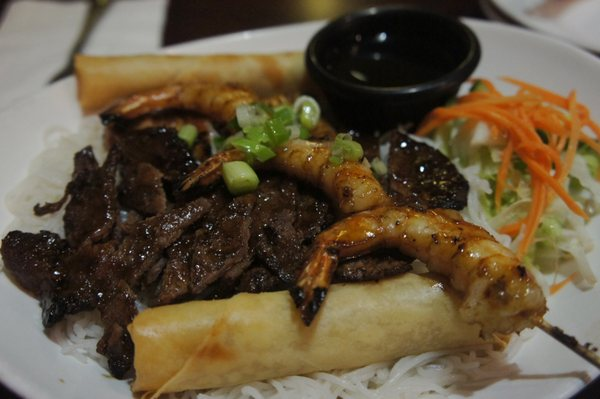sushi: (305, 7, 483, 135)
